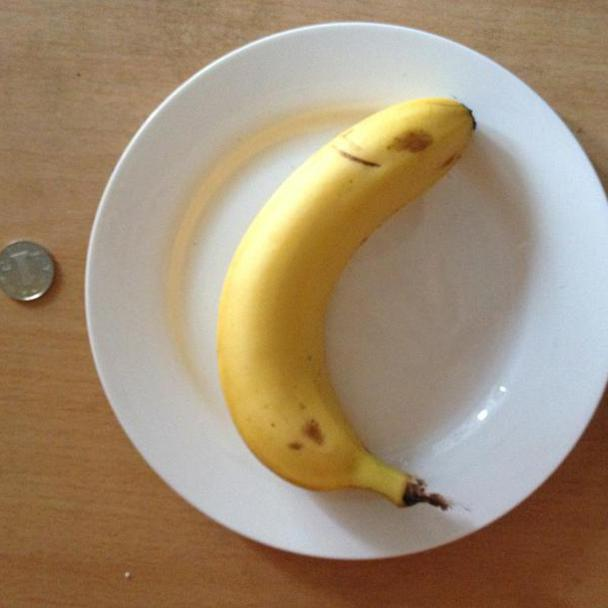banana: (217, 99, 477, 514)
